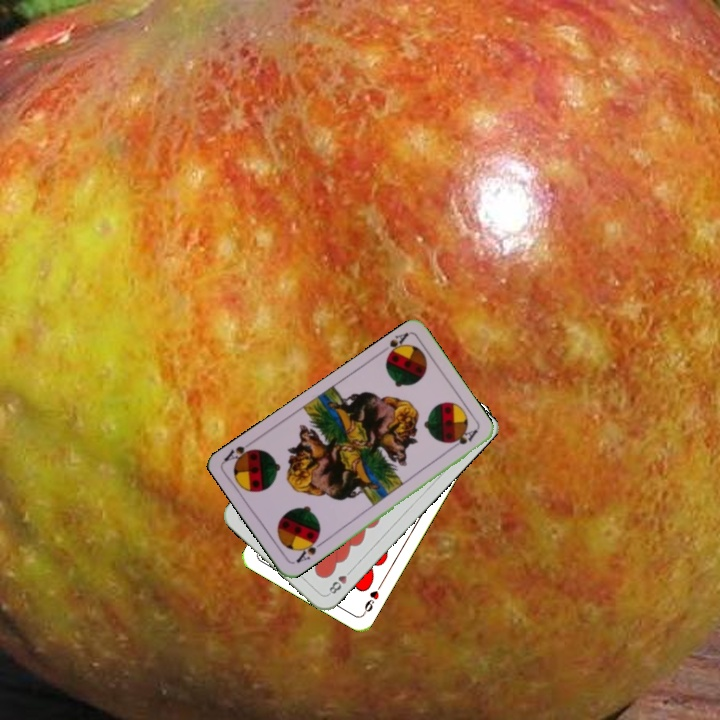H8: (324, 565, 355, 598)
H9: (359, 580, 384, 617)
SA: (292, 533, 326, 566), (381, 328, 412, 363)
